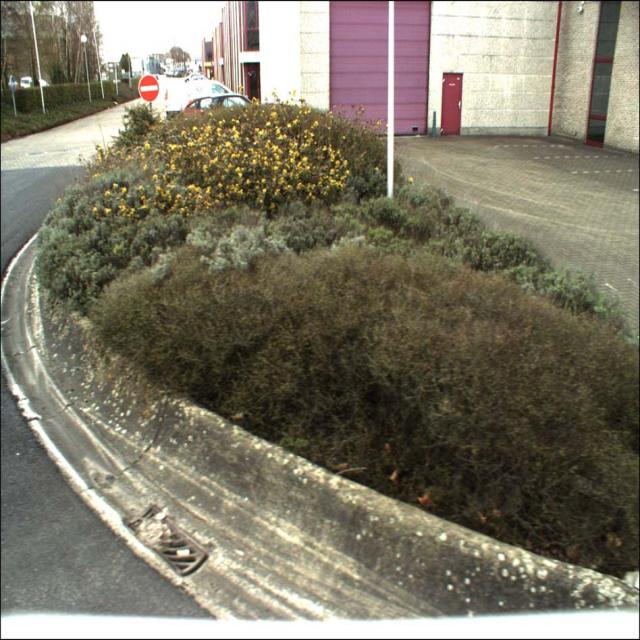girisyok: (138, 75, 160, 102)
